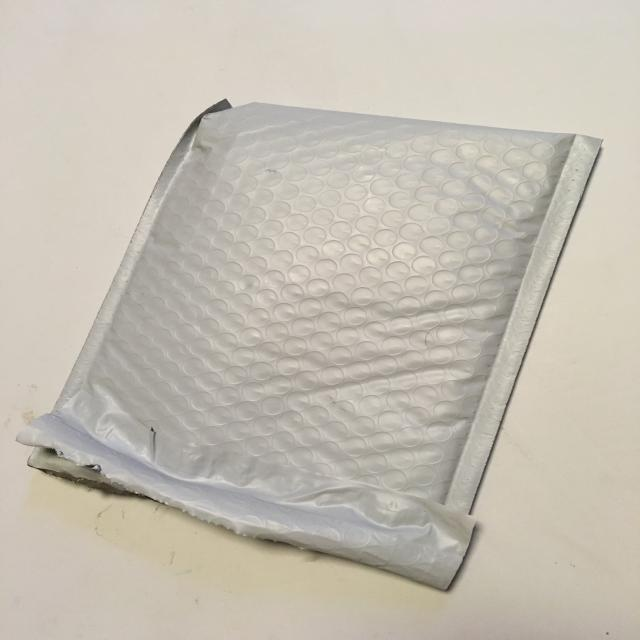plastic: (17, 95, 606, 592)
